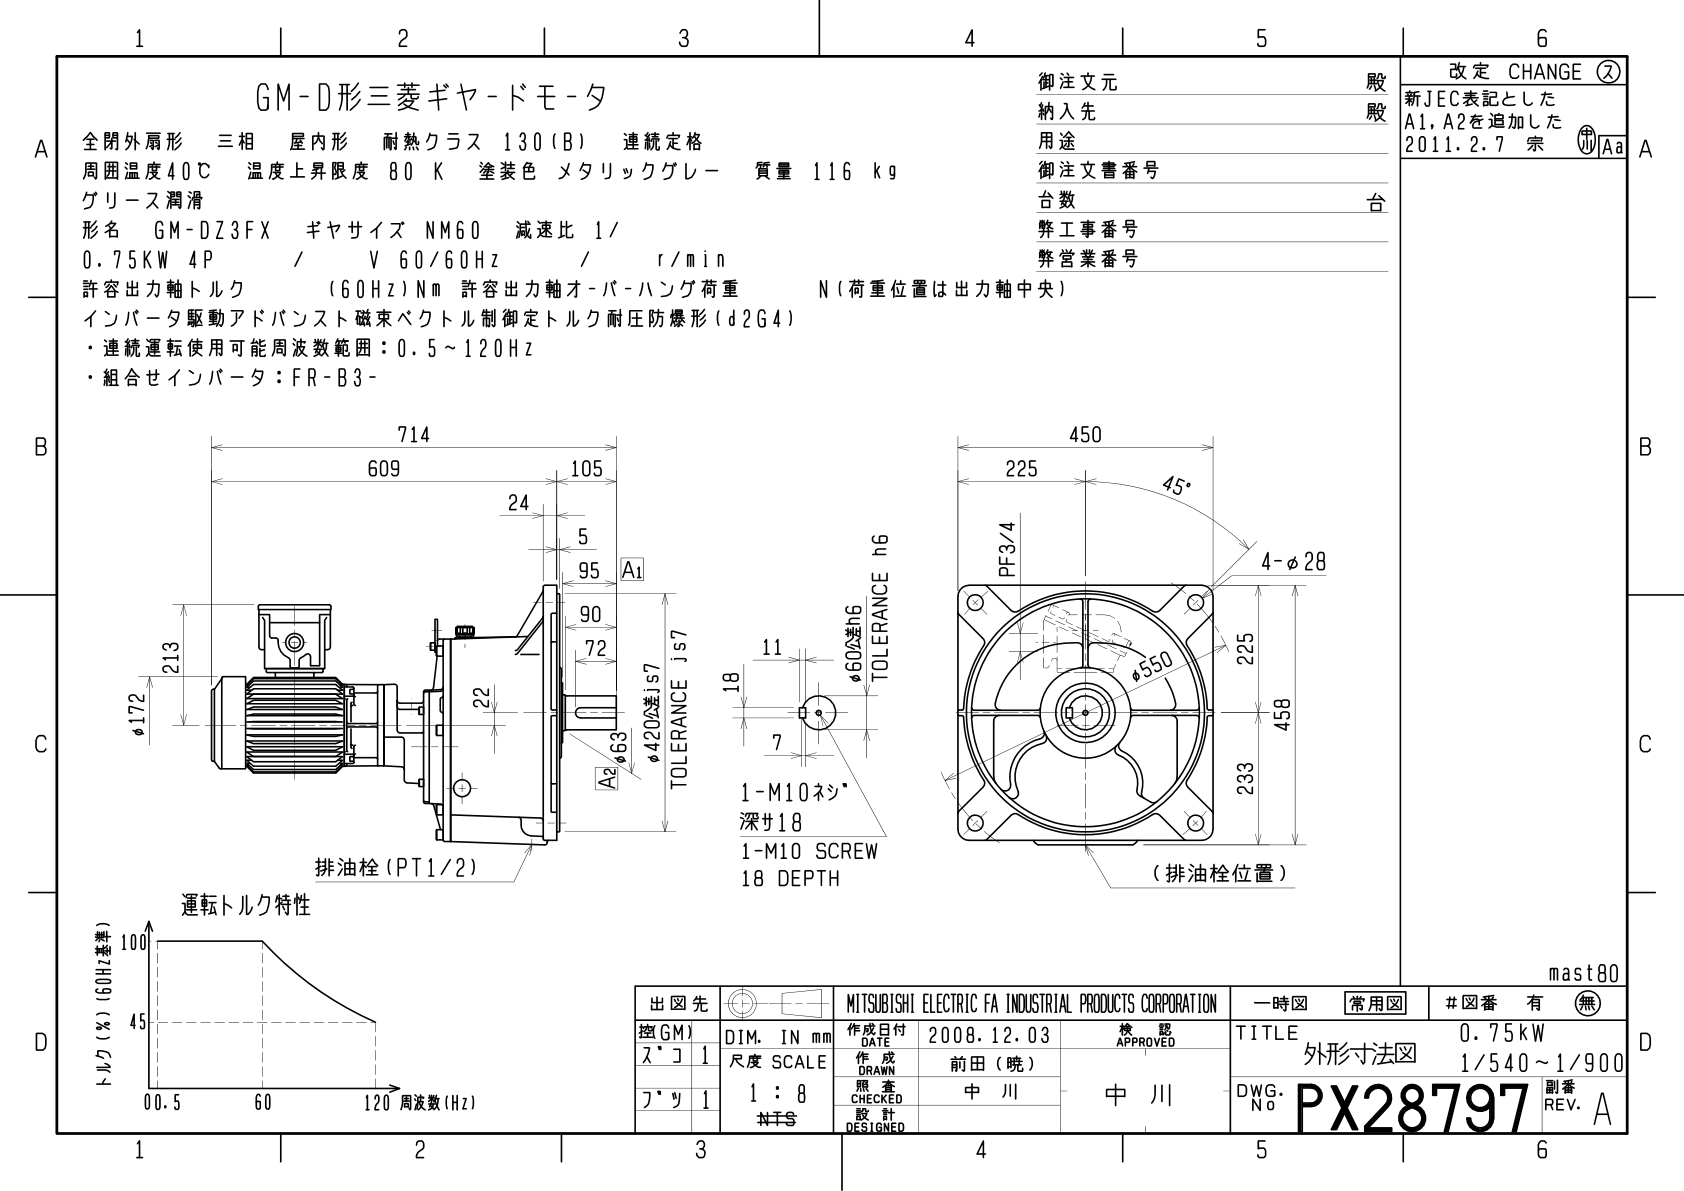GM_D_制御屋内_三相_フランジ: (1, 1, 1674, 1176)
